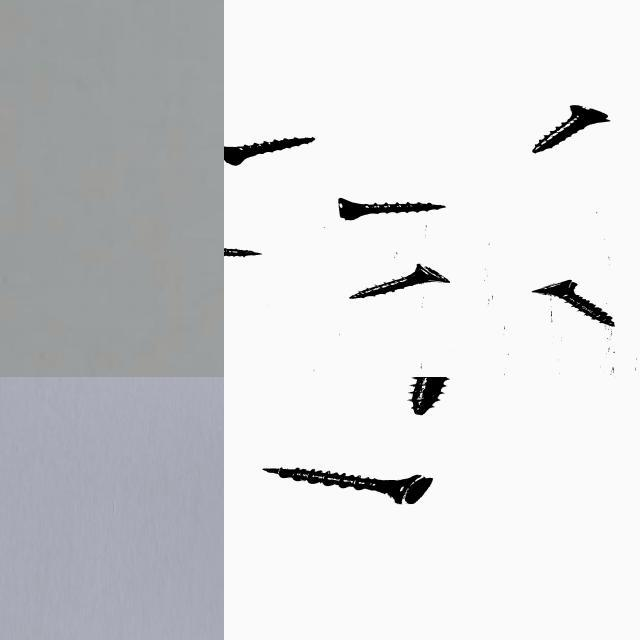Screw: (254, 458, 452, 508), (531, 280, 614, 327), (531, 104, 609, 152), (347, 264, 449, 299), (224, 137, 313, 165), (337, 198, 444, 220), (408, 377, 448, 415)
